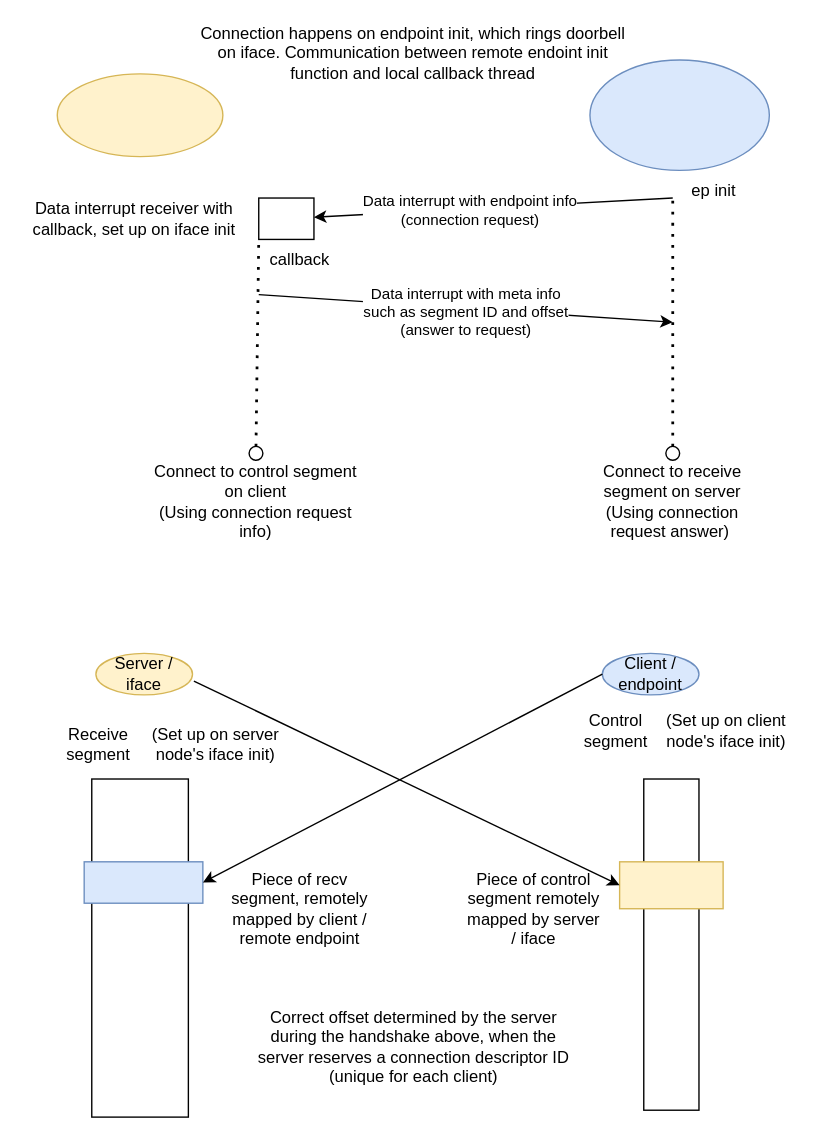
Some shapes in this 818 by 1141 pixel diagram are drawn without their labels. The shapes that lost their labels are listed below. From the top down, each one's box as (x1, y1, x2, y2) in pixels, then its label:
(56, 72, 223, 157): iface, local node, (server)
(589, 59, 769, 170): remote node endpoint (client)
